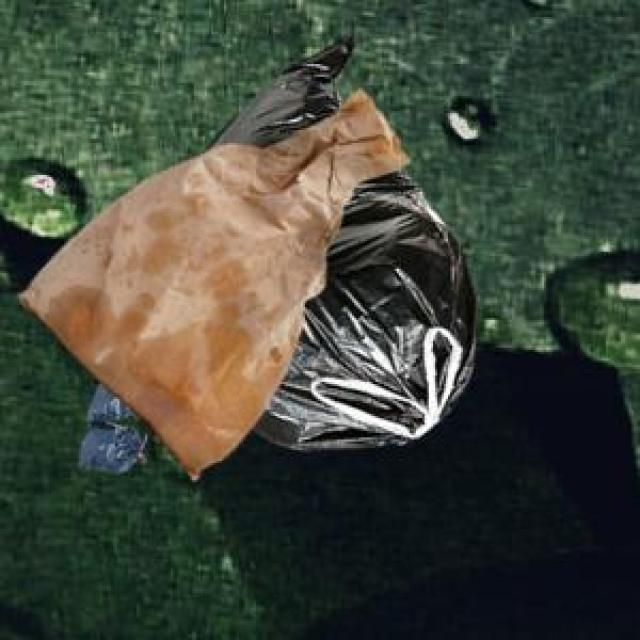miscellaneous trash: (203, 33, 472, 446), (75, 378, 137, 469)
paper: (15, 85, 405, 476)
